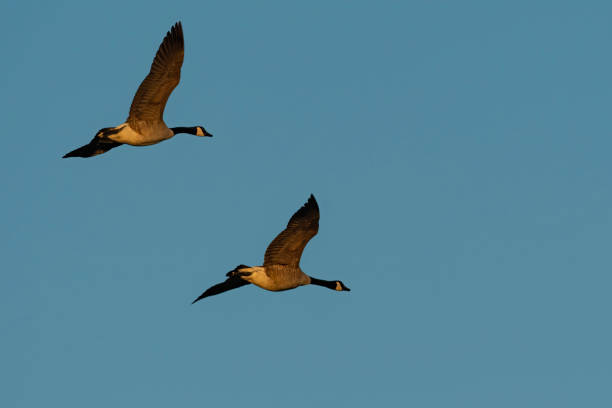goose: (58, 18, 214, 160), (188, 191, 352, 307)
